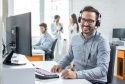male: (76, 6, 99, 35)
